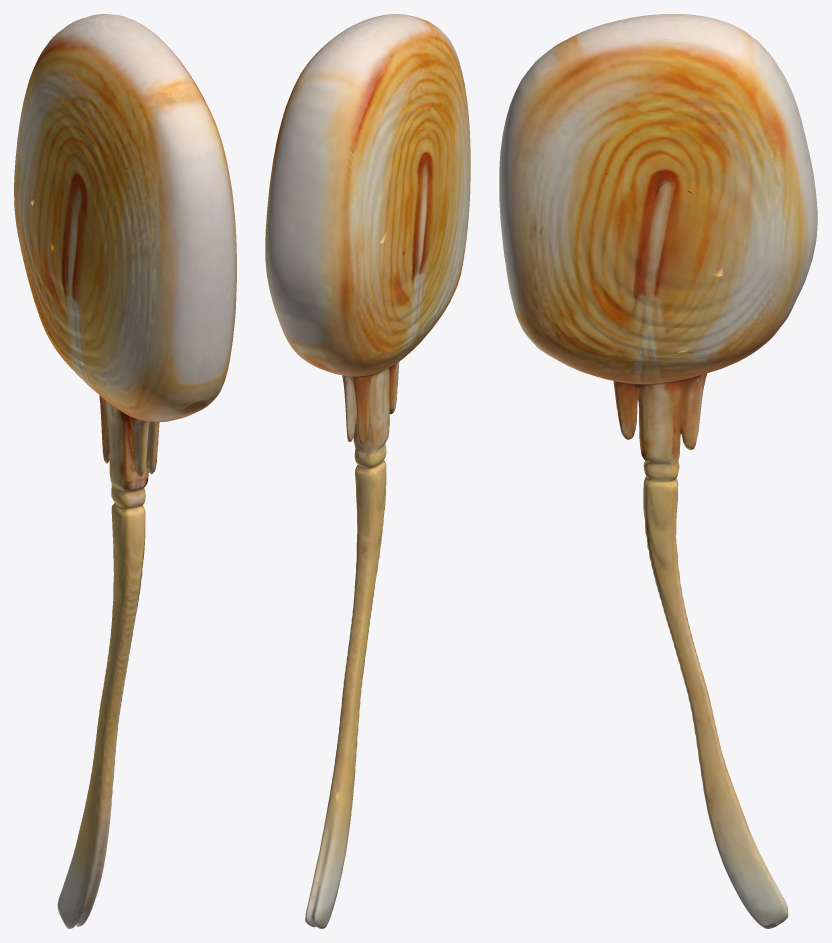
Rendered from pacinian-corpuscle-lite.glb.
The picture shows the model from 3 angles, left to right: view 1: azimuth 30°, elevation 25°; view 2: azimuth 150°, elevation 25°; view 3: azimuth 270°, elevation 25°; orthographic projection. The views are drawn at different scales.
Parts seen in each view (by area): view 1: Object_4; view 2: Object_4; view 3: Object_4.
Boxes of the visible parts, x1,y1,x2,y2 form: Object_4: (14,14,236,928); Object_4: (265,14,470,928); Object_4: (499,14,817,928).
Bounding box in the file's own units: 0.2519 × 2 × 0.6353.
1 material, 1 textured.
